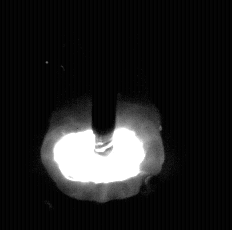arame: (92, 0, 117, 147)
poca: (39, 0, 166, 230)
